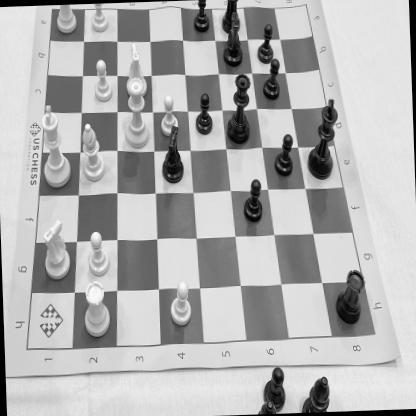bishop: (78, 119, 108, 185)
king: (302, 95, 342, 184), (35, 103, 73, 193)
knight: (157, 123, 188, 185), (218, 12, 248, 69)
pawn: (166, 276, 194, 330), (86, 228, 112, 279), (90, 56, 116, 106), (240, 175, 266, 224), (273, 129, 296, 181), (156, 92, 180, 139), (192, 90, 216, 136), (261, 57, 283, 104), (256, 22, 278, 67), (190, 0, 214, 36), (87, 3, 110, 34)
queen: (119, 76, 154, 151), (221, 73, 255, 149)
rook: (38, 216, 74, 284), (332, 258, 367, 326), (78, 277, 113, 340), (122, 38, 150, 98), (50, 5, 80, 36), (218, 0, 243, 34)
